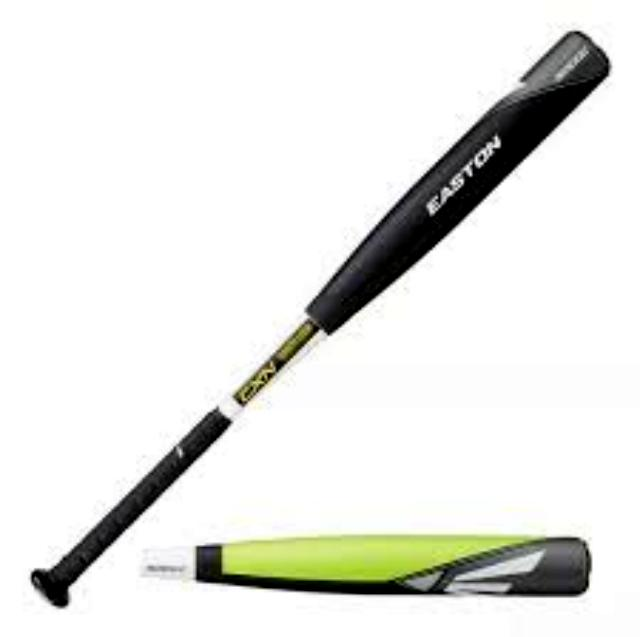baseball bat: (20, 31, 619, 599), (136, 532, 592, 598)
